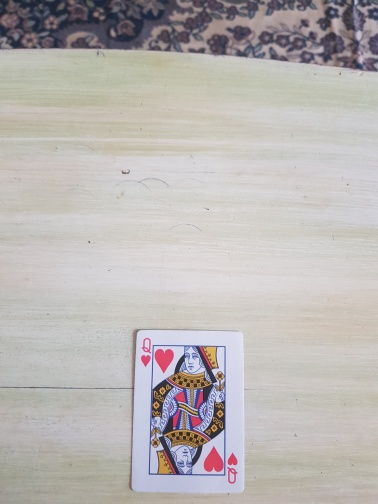queen: (128, 329, 247, 495)
